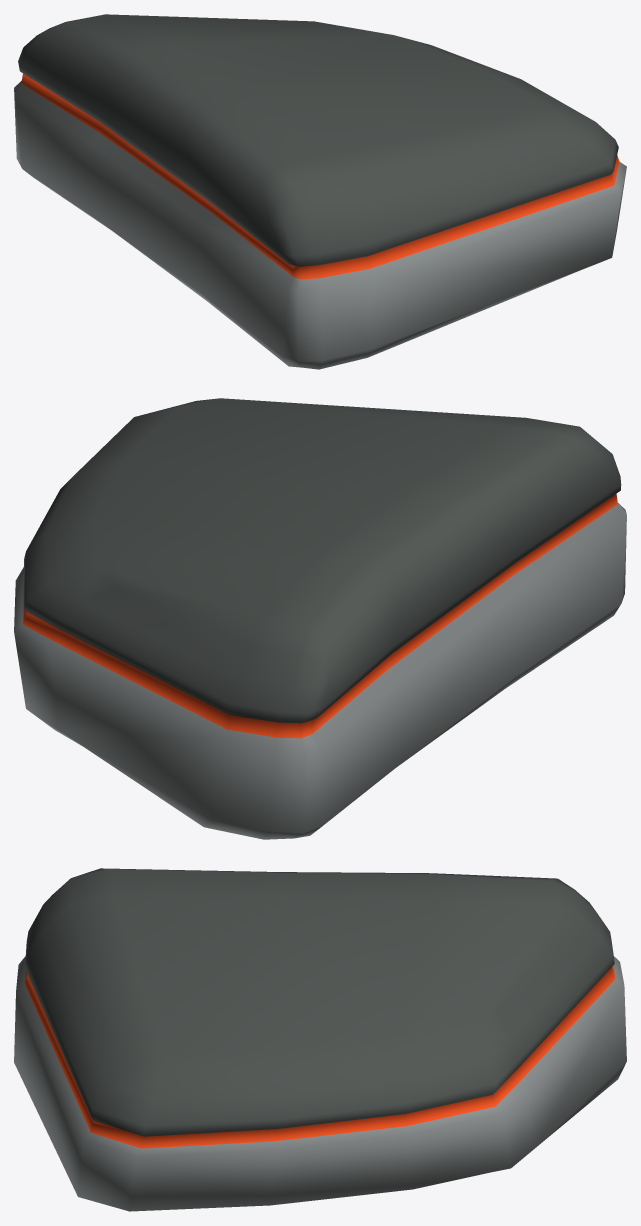
The model's file is xsens_LeftToe.dae.
3 renders of one model, top to bottom at view 1: azimuth 30°, elevation 25°; view 2: azimuth 150°, elevation 25°; view 3: azimuth 270°, elevation 25°, orthographic. The views are drawn at different scales.
Parts seen in each view (by area): view 1: LeftToe; view 2: LeftToe; view 3: LeftToe.
Boxes of the visible parts, left/top/right/bottom form: LeftToe: left=14, top=14, right=626, bottom=369; LeftToe: left=14, top=398, right=626, bottom=839; LeftToe: left=14, top=868, right=626, bottom=1211.
Size of the model in its own units: 0.0675 by 0.0877 by 0.0292.
